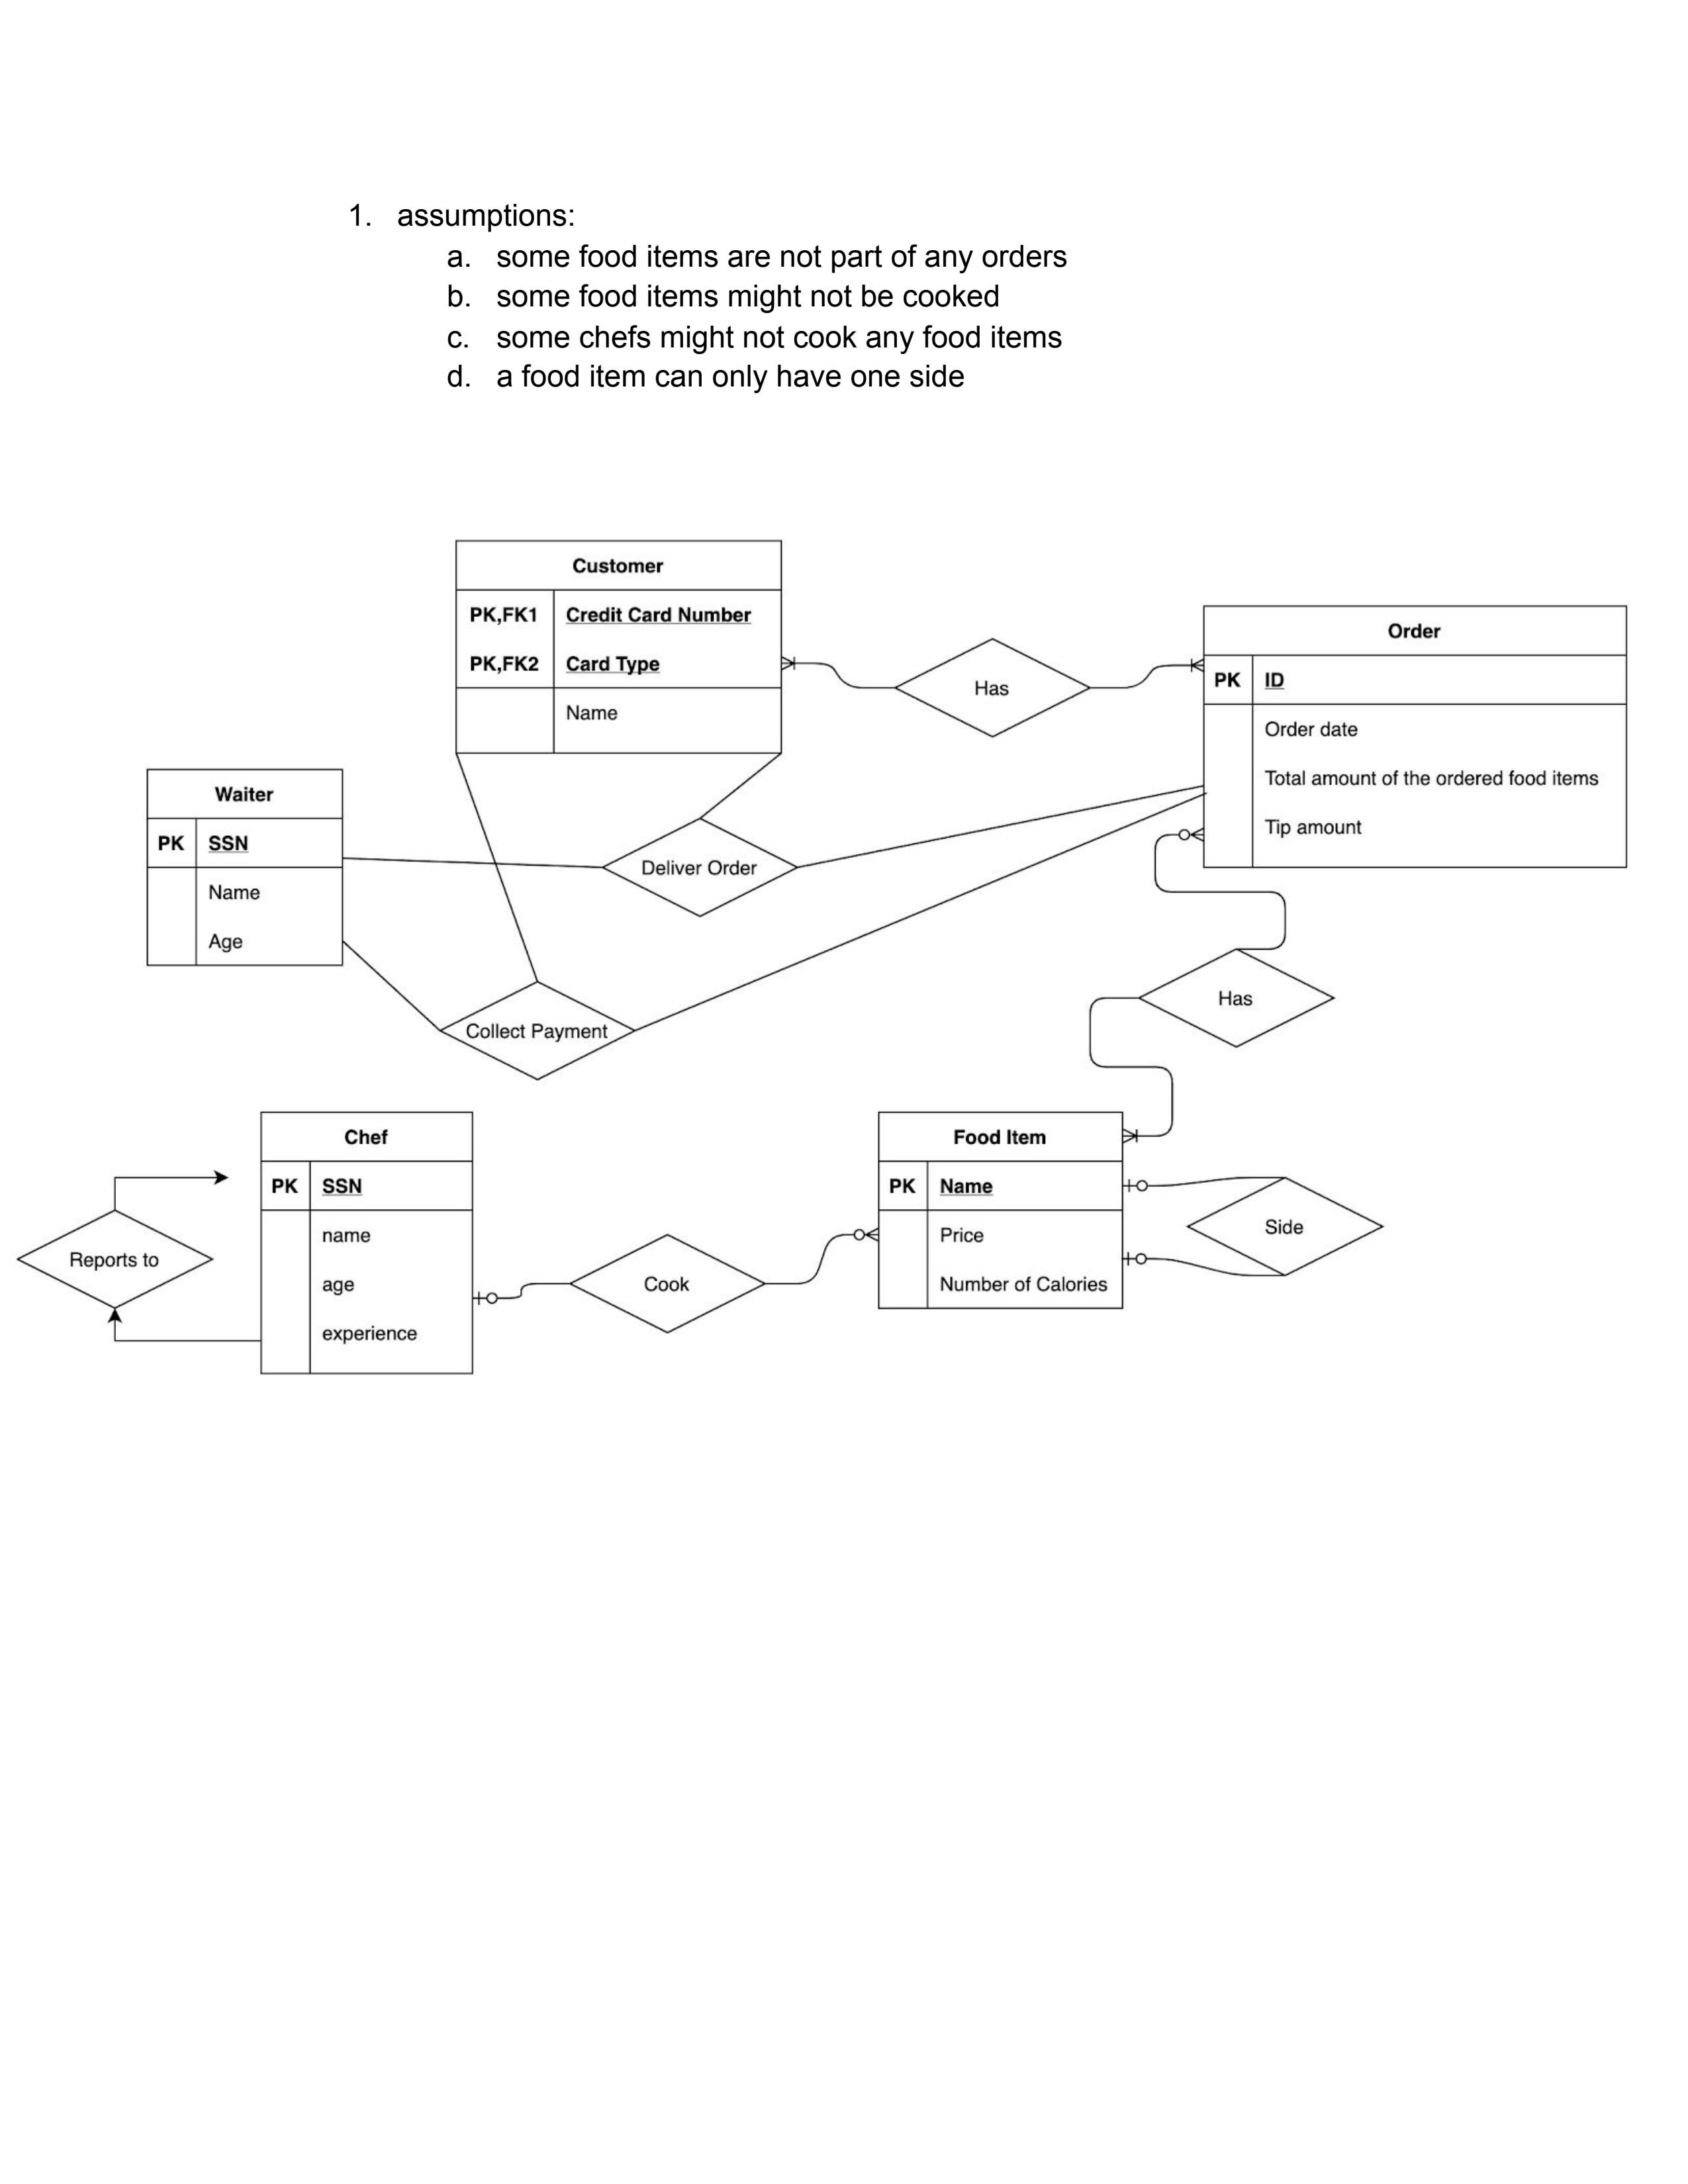Entity: (1192, 603, 1638, 877), (447, 535, 789, 760), (254, 1108, 482, 1379), (864, 1103, 1135, 1321), (137, 764, 353, 973)
Relationship: (12, 1204, 215, 1314), (1186, 1172, 1385, 1280), (1142, 945, 1337, 1053), (894, 635, 1094, 739), (571, 1227, 766, 1333), (605, 815, 801, 918), (442, 980, 640, 1081)
